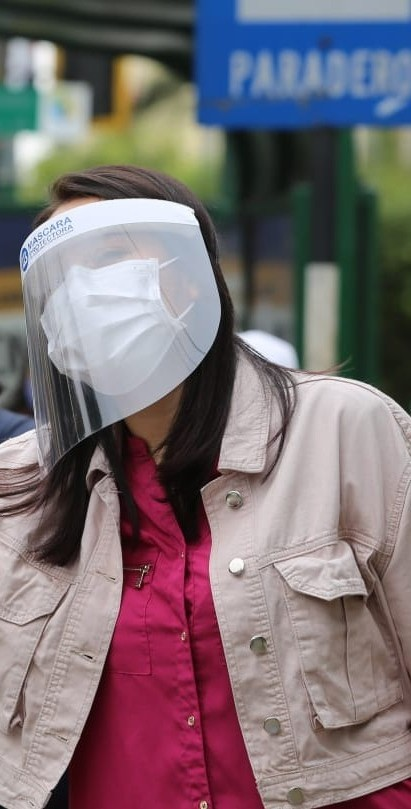with_mask: (20, 174, 246, 442)
